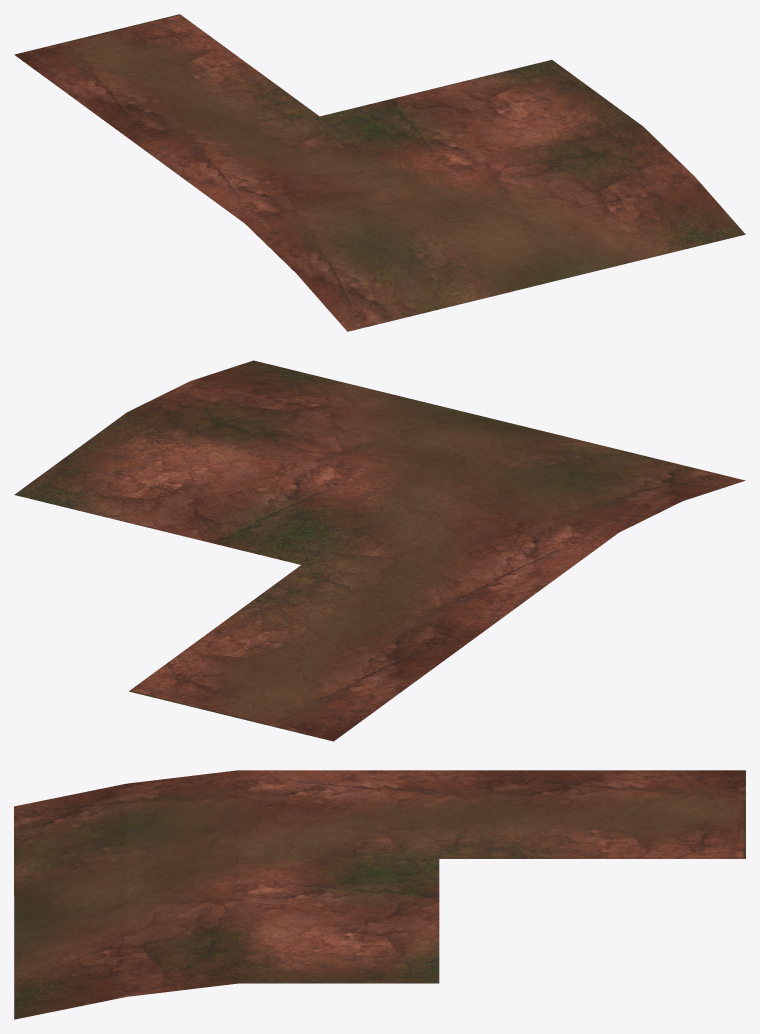
The model's file is thicket-base.glb.
3 renders of one model, top to bottom at view 1: azimuth 30°, elevation 25°; view 2: azimuth 150°, elevation 25°; view 3: azimuth 270°, elevation 25°, orthographic. The views are drawn at different scales.
Parts seen in each view (by area): view 1: thorn-base-col; view 2: thorn-base-col; view 3: thorn-base-col.
Part boxes in pixels (x1,y1,x2,y2): thorn-base-col: [14, 14, 745, 331]; thorn-base-col: [14, 360, 745, 741]; thorn-base-col: [14, 770, 745, 1019].
Size of the model in its own units: 41.16 by 3.26 by 59.68.
1 material, 1 textured.
